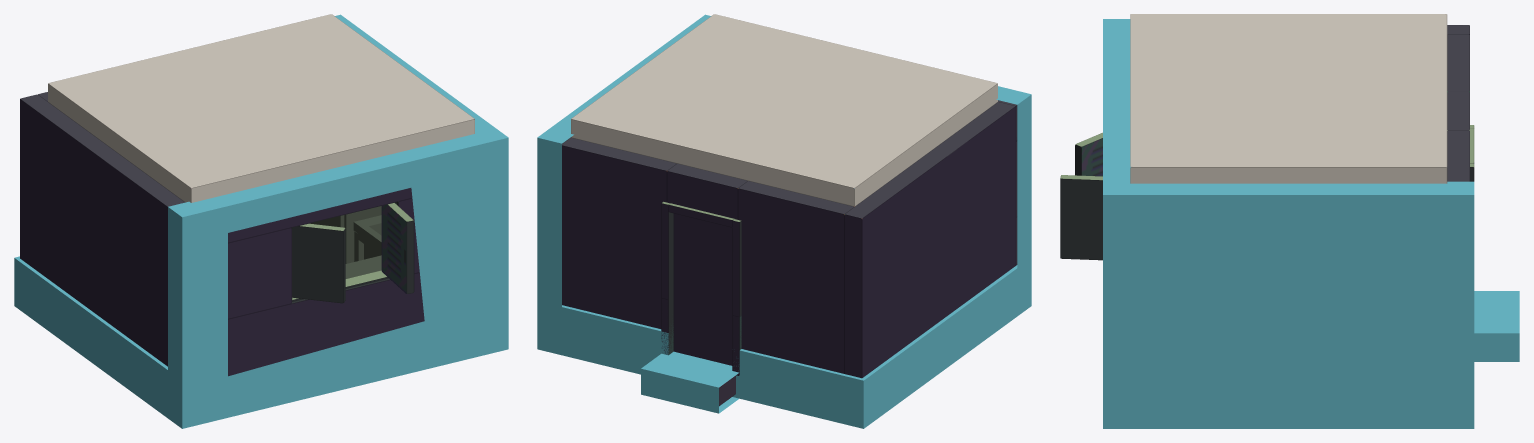
The model's file is Kitchen.fbx.
The picture shows the model from 3 angles, left to right: view 1: azimuth 30°, elevation 25°; view 2: azimuth 150°, elevation 25°; view 3: azimuth 270°, elevation 25°; orthographic projection. The views are drawn at different scales.
Visible parts, largest first — view 1: map border, cuboid_2, wall behind_7, wall behind_9, wall behind_10, cuboid_13, cuboid_12, wall behind_1, sink border, fridge border, frames_2, counter border; view 2: cuboid_2, map border, wall behind_7, wall behind_6, wall behind_5, door, frames_1, wall behind_8, frames; view 3: map border, cuboid_2, cuboid_12, wall behind_6, wall behind_5, cuboid_13, wall behind_8.
Boxes of the visible parts, <box> form: map border: <box>14,14,508,428</box>; cuboid_2: <box>48,14,474,202</box>; wall behind_7: <box>20,94,184,366</box>; wall behind_9: <box>228,272,424,376</box>; wall behind_10: <box>228,227,291,318</box>; cuboid_13: <box>292,223,345,303</box>; cuboid_12: <box>381,203,414,293</box>; wall behind_1: <box>228,188,412,242</box>; sink border: <box>353,215,381,261</box>; fridge border: <box>310,206,381,263</box>; frames_2: <box>292,202,396,301</box>; counter border: <box>345,255,381,278</box>; cuboid_2: <box>571,14,997,206</box>; map border: <box>537,14,1031,428</box>; wall behind_7: <box>844,102,1015,378</box>; wall behind_6: <box>738,181,853,373</box>; wall behind_5: <box>562,137,676,328</box>; door: <box>673,213,732,365</box>; frames_1: <box>661,201,741,375</box>; wall behind_8: <box>667,163,747,220</box>; frames: <box>661,298,741,375</box>; map border: <box>1103,19,1519,428</box>; cuboid_2: <box>1130,14,1447,183</box>; cuboid_12: <box>1060,175,1102,260</box>; wall behind_6: <box>1447,34,1469,91</box>; wall behind_5: <box>1447,130,1469,181</box>; cuboid_13: <box>1075,132,1102,176</box>; wall behind_8: <box>1447,92,1469,130</box>.
Size of the model in its own units: 1150 by 762 by 1268.
Materials: 13 (13 with a texture image).
